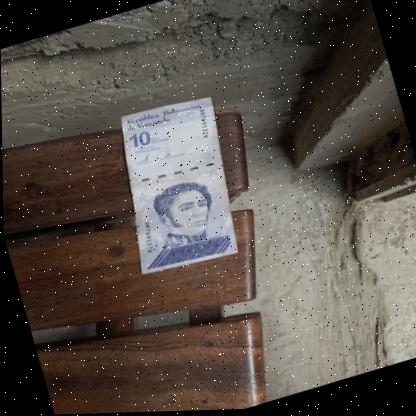ten-front-vef: (96, 89, 252, 281)
